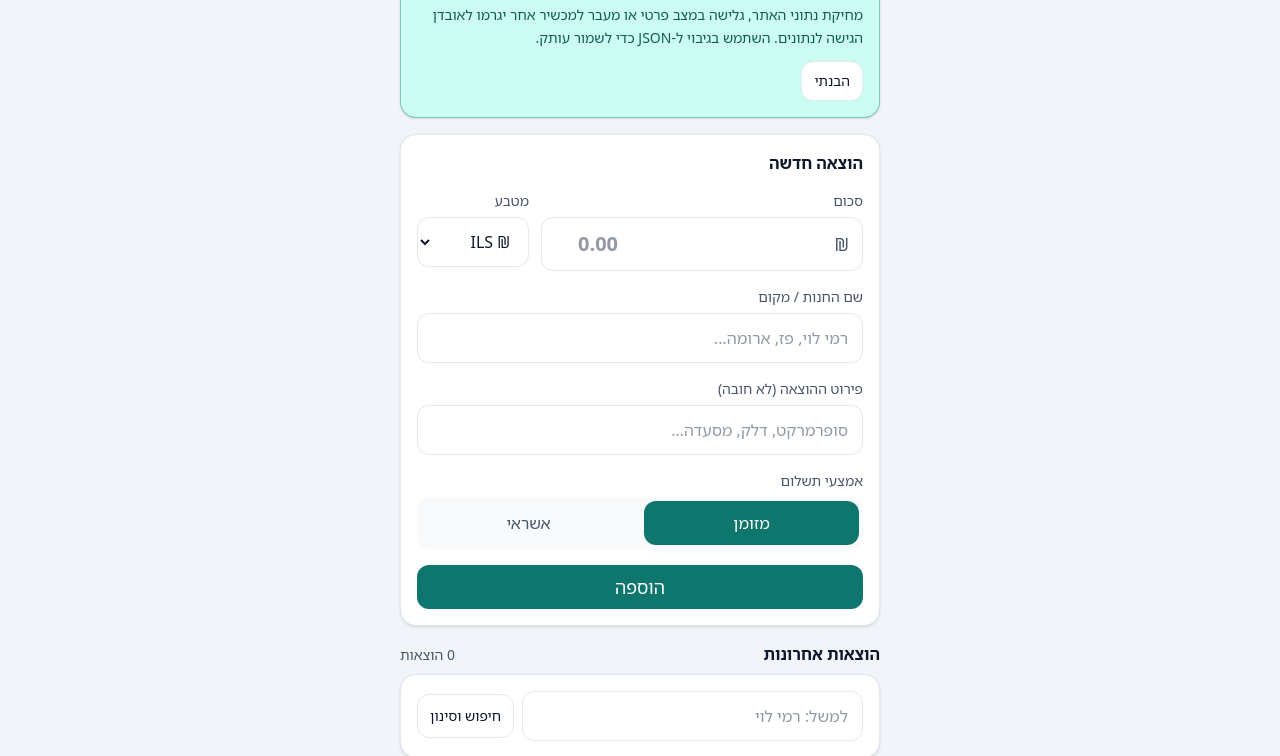
Test: App › עורך הוצאה קיימת
Type "10" into the field labelled "סכום" at (702, 244), box [541, 217, 863, 271]
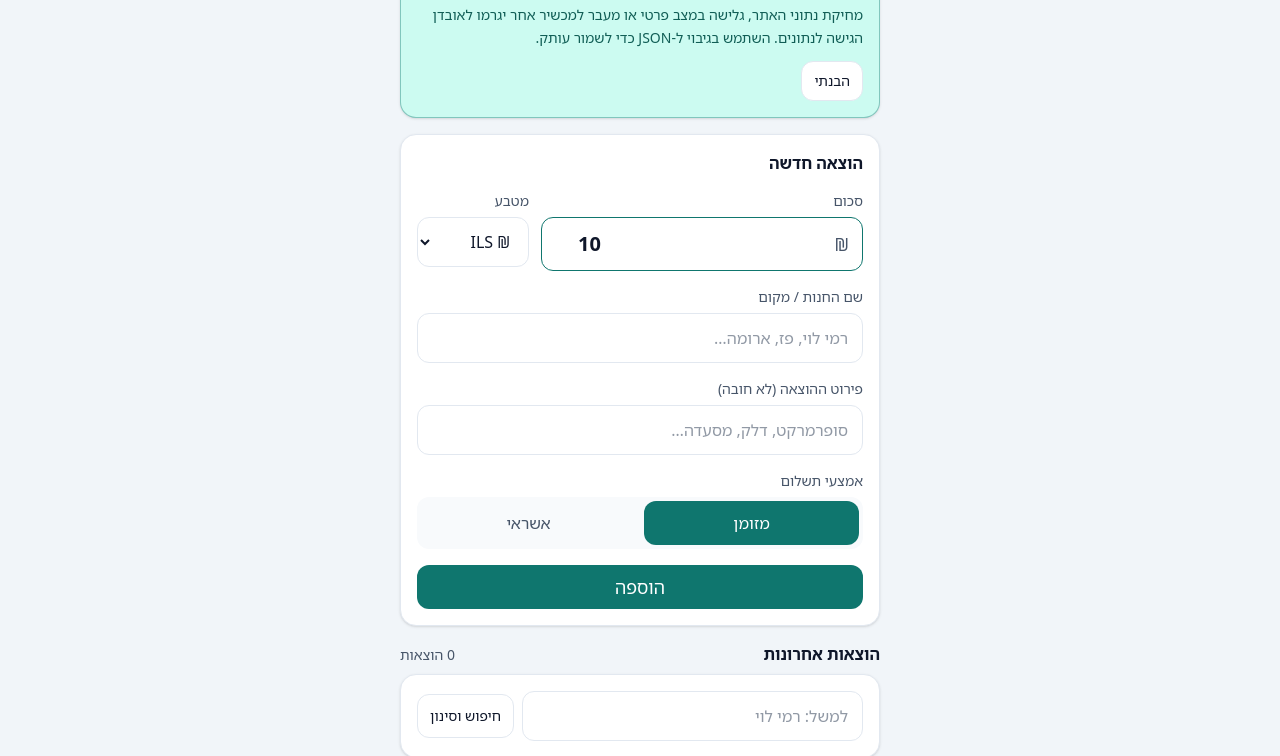
Type "ארומה" into the field labelled "שם החנות / מקום" at (640, 338), box [417, 313, 863, 363]
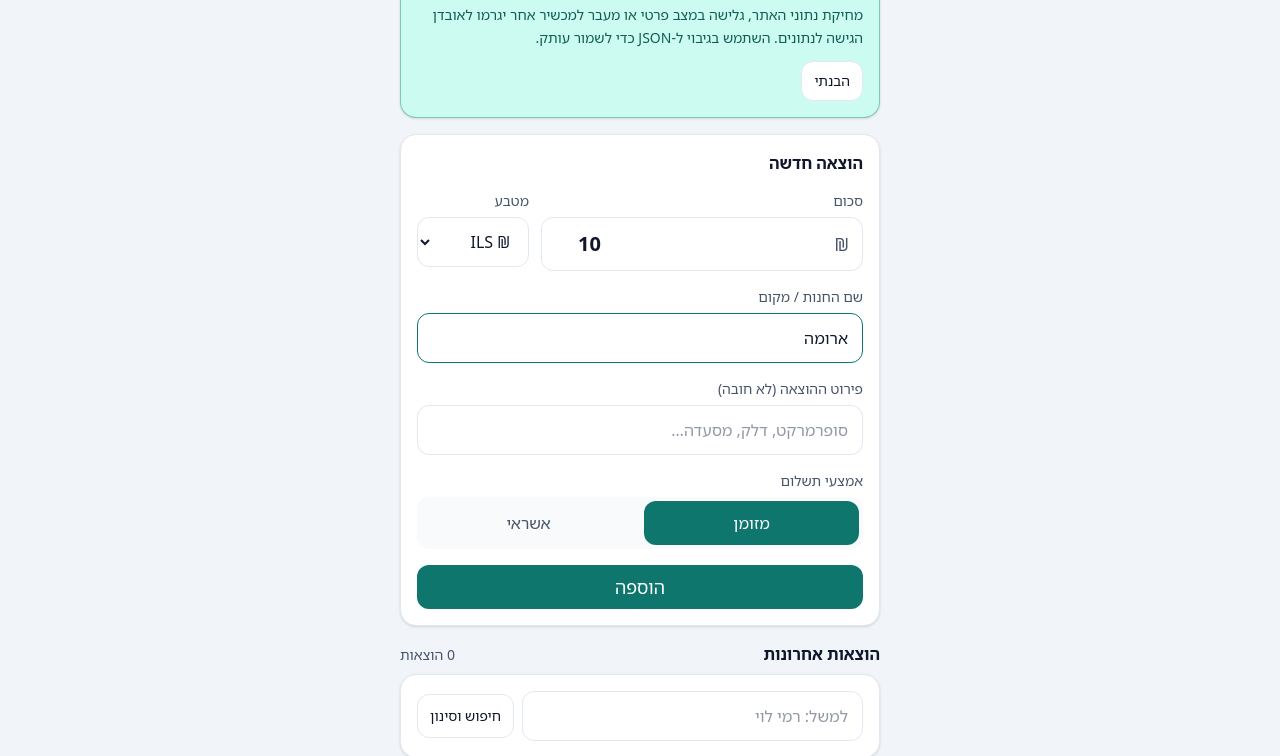
Click the button "הוספה" at (640, 587), box [417, 565, 863, 609]
(page scrolled)
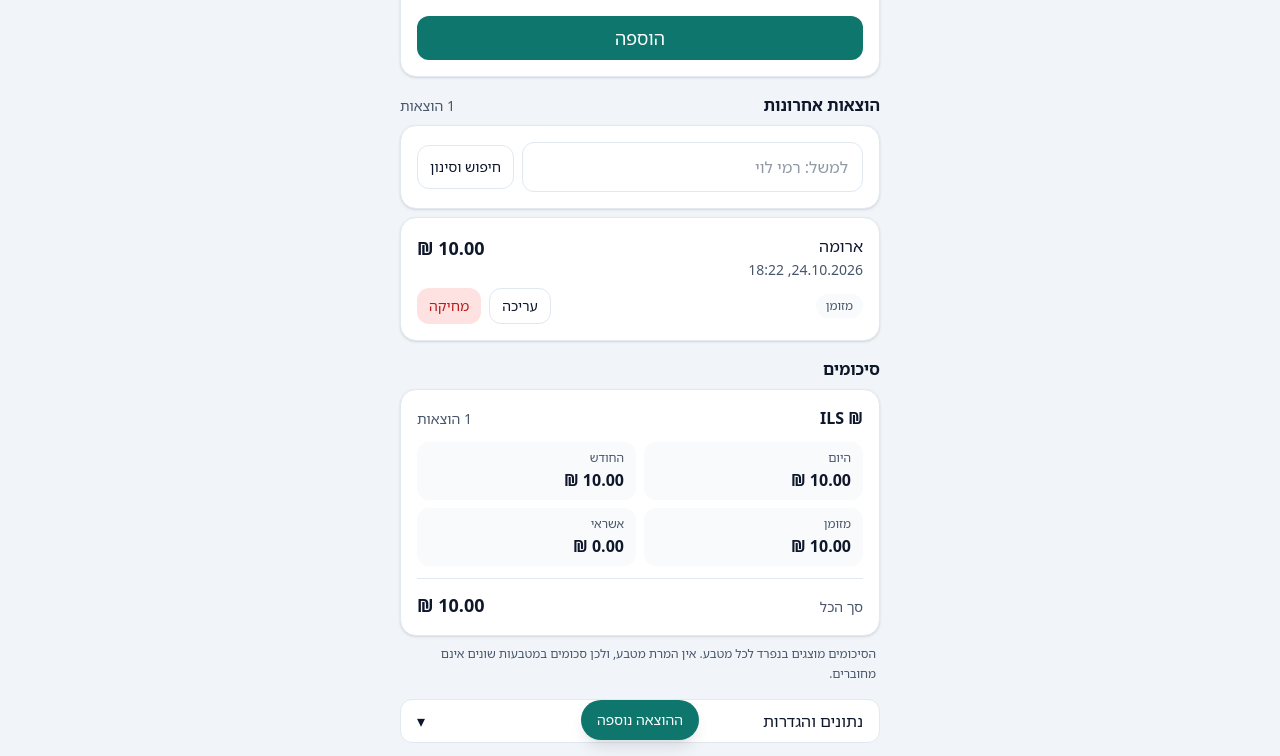
Expected: the text "ארומה" is shown, [819, 235, 863, 257]
Click the button "עריכה" at (520, 306), box [489, 288, 551, 324]
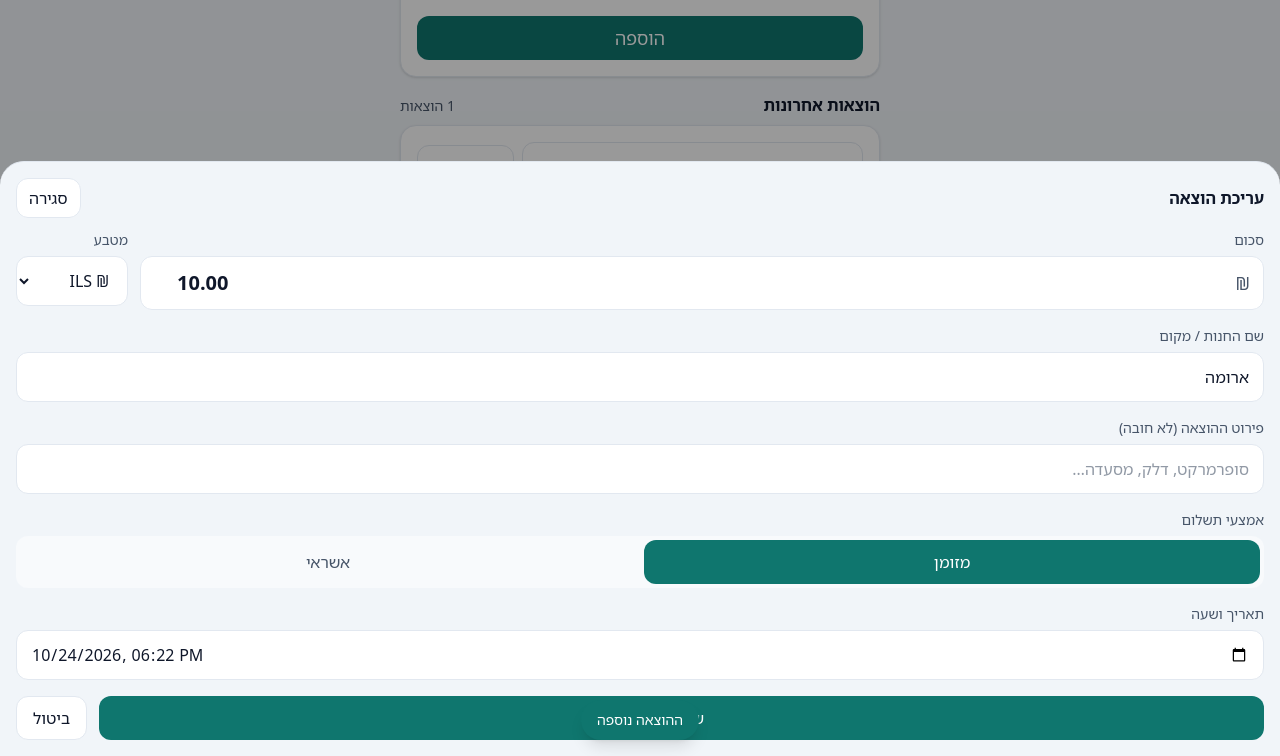
Replace the text in the field labelled "סכום" with "18" at (702, 283), box [140, 256, 1264, 310]
(page scrolled)
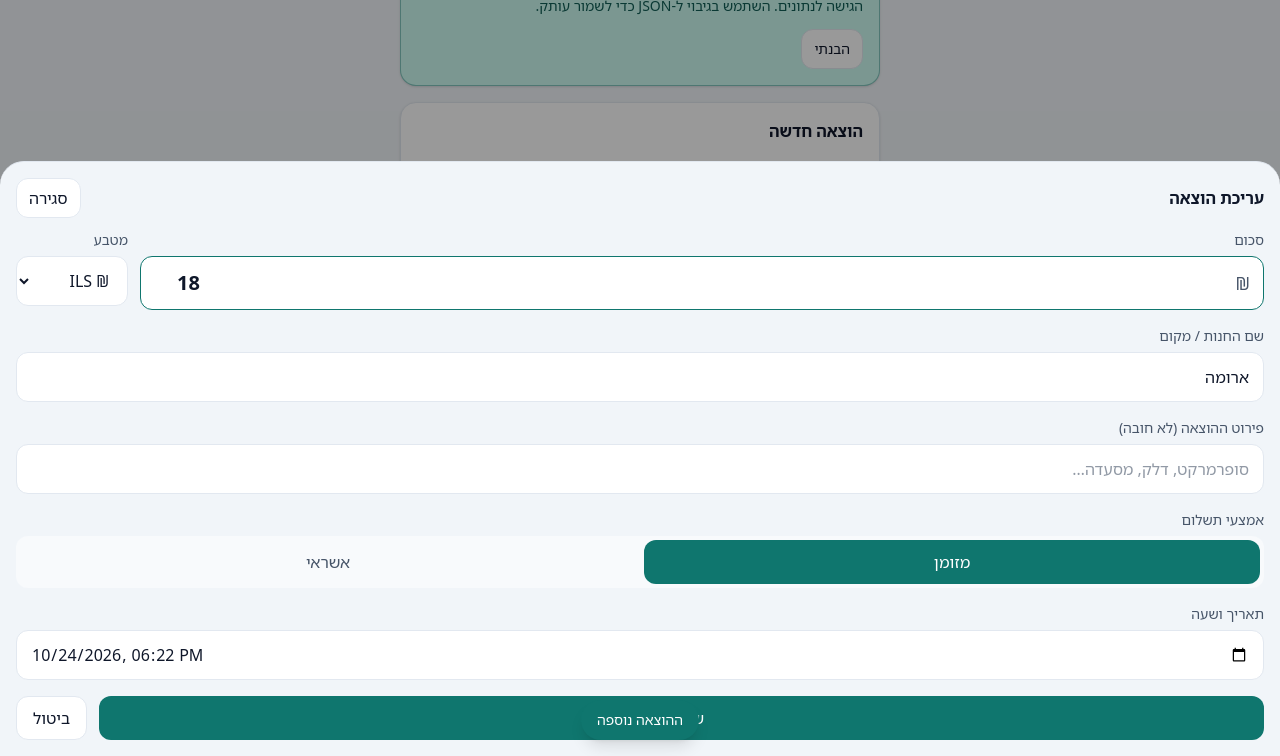
Click the button "שמירה" at (682, 718), box [99, 696, 1264, 740]
(page scrolled)
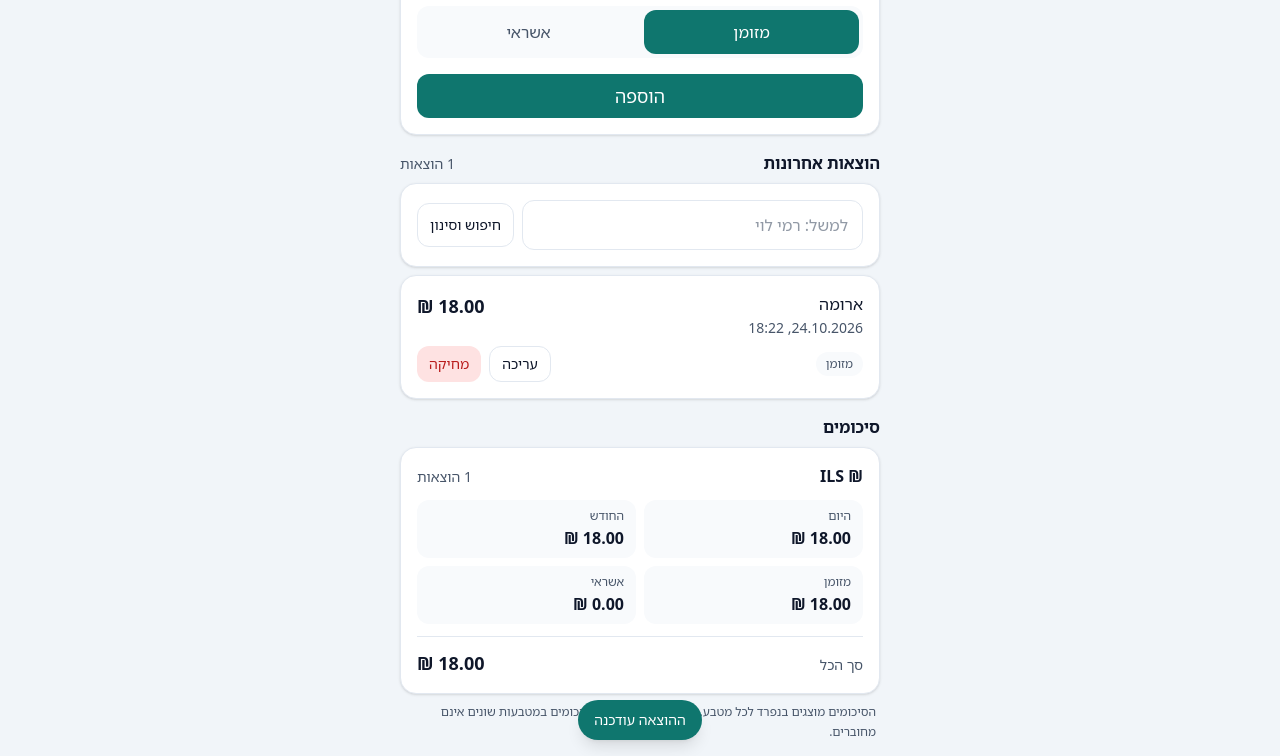
Expected: the heading "עריכת הוצאה" is gone
Expected: the text "ההוצאה עודכנה" is shown, [578, 700, 702, 740]
Expected: the text "18.00 ₪" in the row of "ארומה" is shown, [417, 294, 485, 318]
